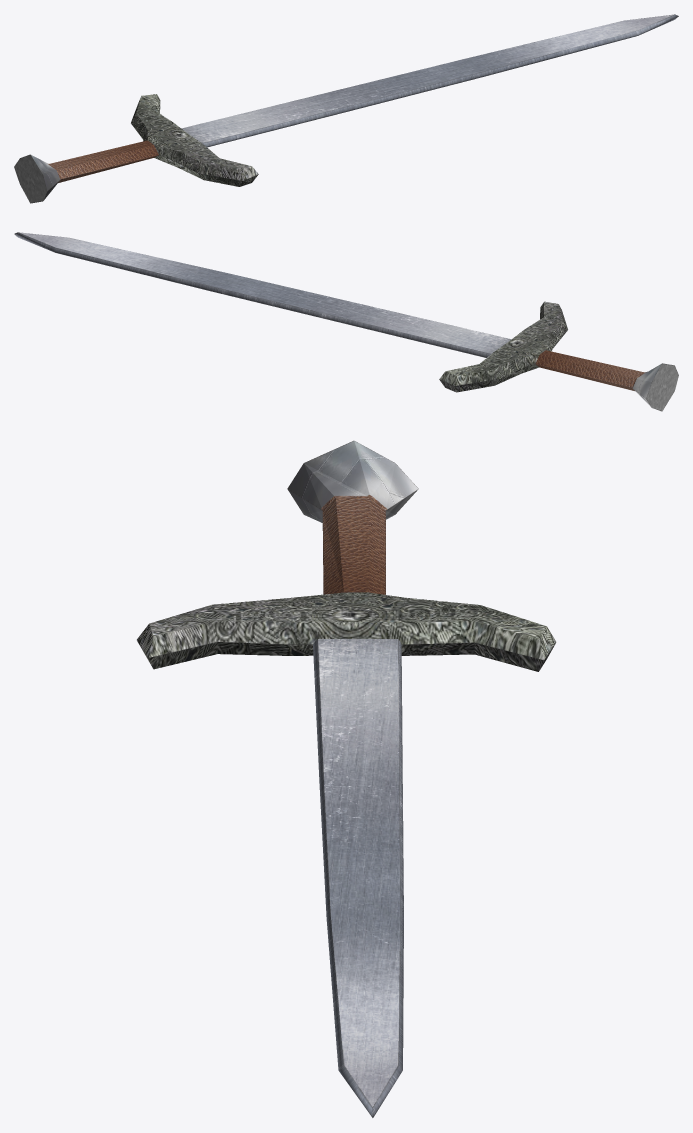
The model's file is espada.FBX.
3 renders of one model, top to bottom at view 1: azimuth 30°, elevation 25°; view 2: azimuth 150°, elevation 25°; view 3: azimuth 270°, elevation 25°, orthographic. The views are drawn at different scales.
Visible parts, largest first — view 1: Box001; view 2: Box001; view 3: Box001.
Boxes of the visible parts, x1,y1,x2,y2 form: Box001: (14, 14, 678, 203); Box001: (14, 232, 678, 411); Box001: (137, 440, 556, 1117).
Bounding box in the file's own units: 605 × 43.53 × 171.
Materials: 1 (1 with a texture image).
